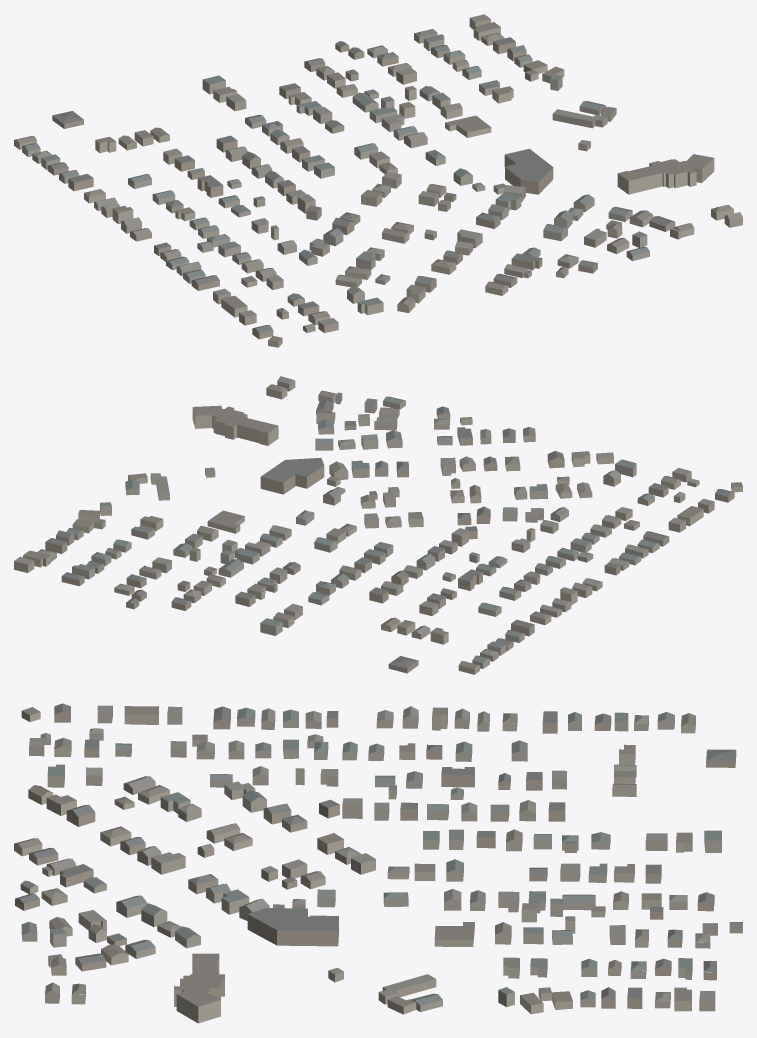
File: 57142bc0873b-chunk-1198_11840.glb
3 renders of one model, top to bottom at view 1: azimuth 30°, elevation 25°; view 2: azimuth 150°, elevation 25°; view 3: azimuth 270°, elevation 25°, orthographic. The views are drawn at different scales.
Parts seen in each view (by area): view 1: building_112937, building_42703, building_13359, building_8562; view 2: building_112937, building_42703, building_13359; view 3: building_42703, building_112937, building_13359, building_8562, building_94874, building_157786, building_34861, building_33427, building_124820, building_22504.
Boxes of the visible parts, box(x1,y1,x2,y2) form: building_112937: box(617, 154, 714, 194); building_42703: box(504, 148, 553, 194); building_13359: box(445, 115, 491, 137); building_8562: box(552, 109, 607, 128); building_112937: box(192, 405, 278, 445); building_42703: box(260, 458, 324, 494); building_13359: box(207, 510, 244, 533); building_42703: box(247, 908, 338, 946); building_112937: box(174, 953, 224, 1023); building_13359: box(434, 922, 474, 946); building_8562: box(378, 974, 436, 1004); building_94874: box(441, 767, 474, 787); building_157786: box(124, 706, 158, 724); building_34861: box(151, 852, 185, 874); building_33427: box(706, 749, 736, 767); building_124820: box(60, 864, 93, 887); building_22504: box(538, 987, 572, 1009).
Size of the model in its own units: 393 by 9.98 by 392.
